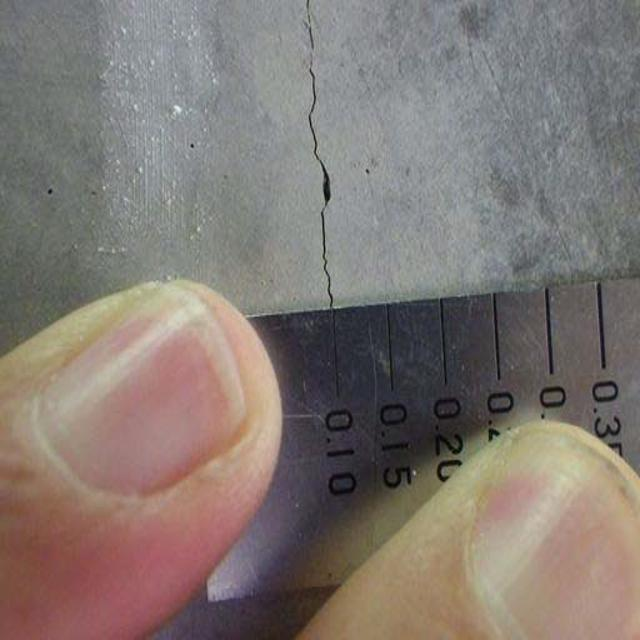crack: (294, 3, 362, 310)
